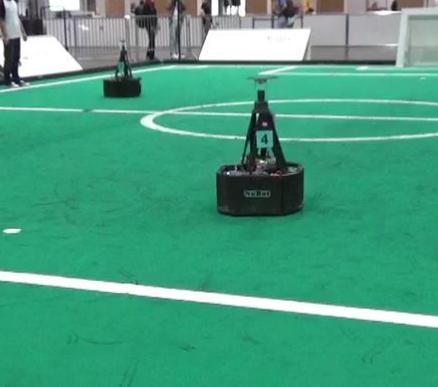robot: (216, 72, 305, 217), (100, 37, 144, 100)
